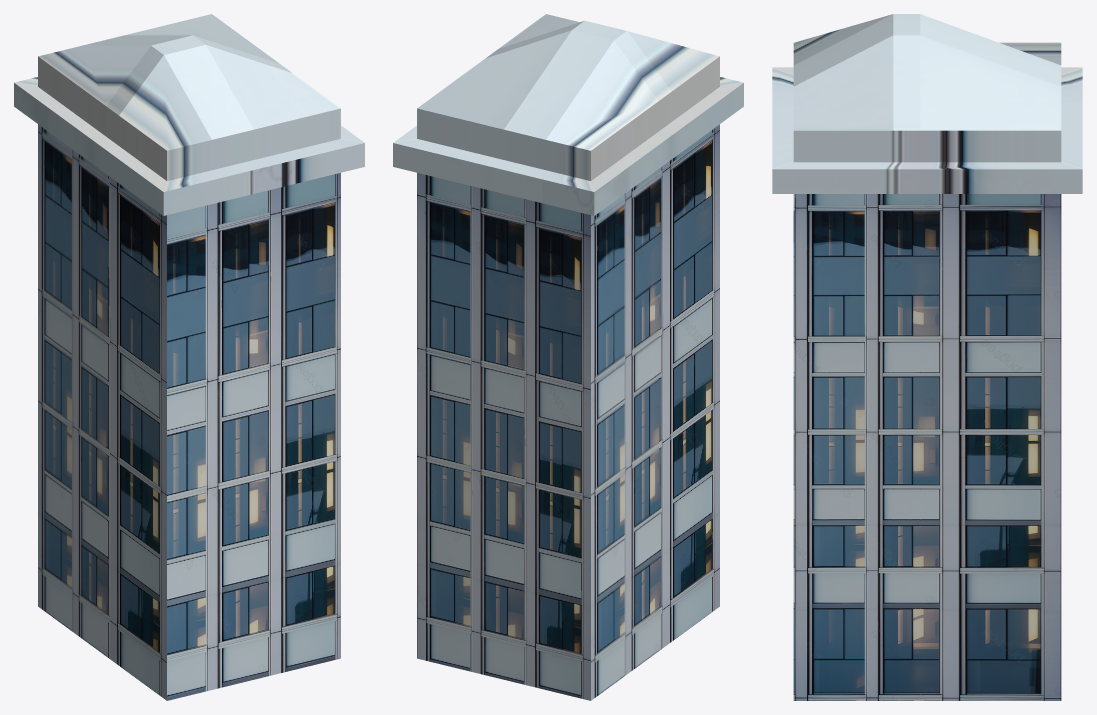
The model's file is city4.fbx.
3 renders of one model, left to right at view 1: azimuth 30°, elevation 25°; view 2: azimuth 150°, elevation 25°; view 3: azimuth 270°, elevation 25°, orthographic. The views are drawn at different scales.
Parts seen in each view (by area): view 1: Cubo; view 2: Cubo; view 3: Cubo.
Boxes of the visible parts, box(x1,y1,x2,y2) form: Cubo: box(14, 14, 364, 700); Cubo: box(393, 14, 743, 700); Cubo: box(772, 14, 1082, 700).
Bounding box in the file's own units: 1622 × 4616 × 2086.
1 material, 1 textured.
